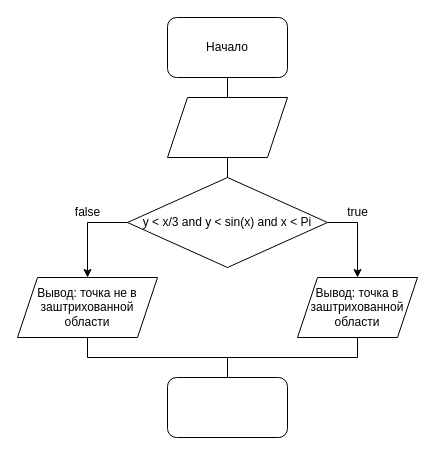
Some shapes in this 435 by 455 pixel diagram are drawn without their labels. The centre of each missing label's shape, as x and y in pixels:
Ввод x, y: (x=227, y=127)
Конец: (x=227, y=407)
